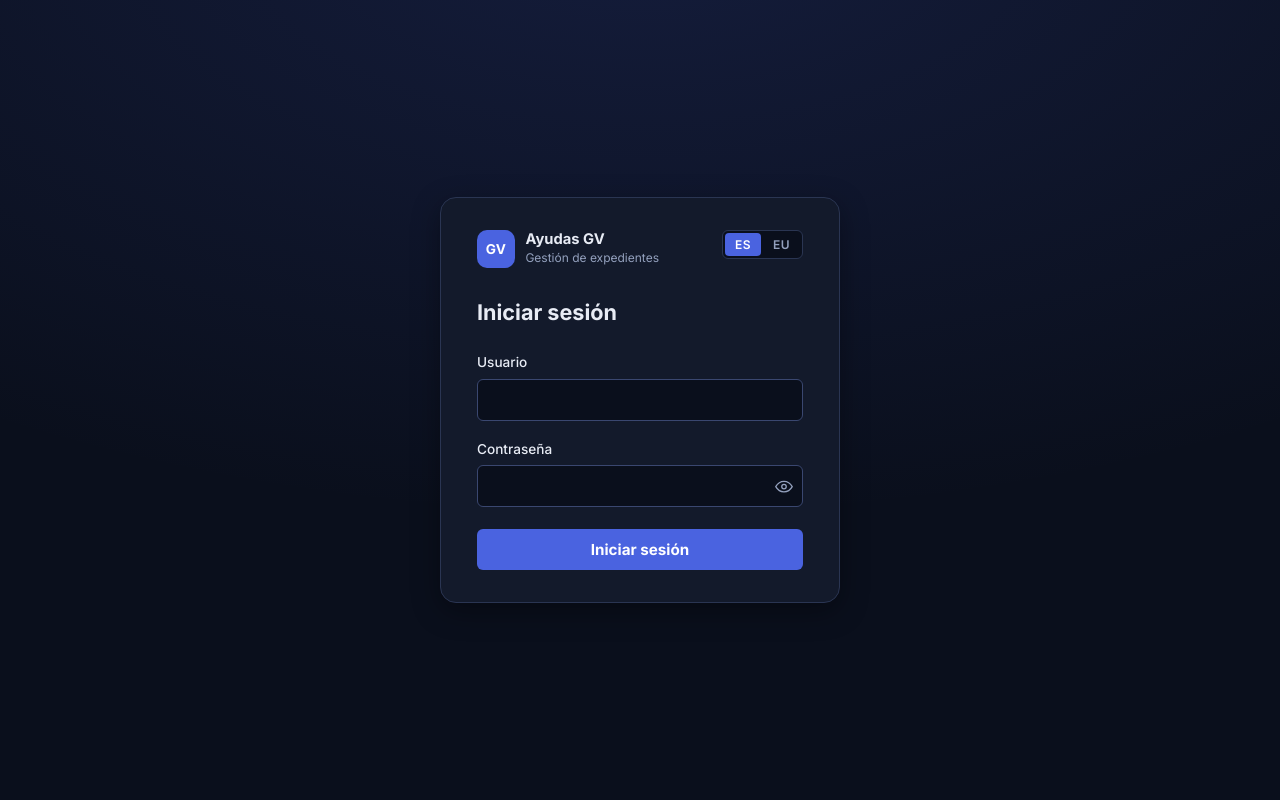
Test case: LoginPage › con credenciales incorrectas muestra el error y no crea sesión
Type "admin" into the field labelled "Usuario" at (640, 400), box [477, 379, 803, 421]
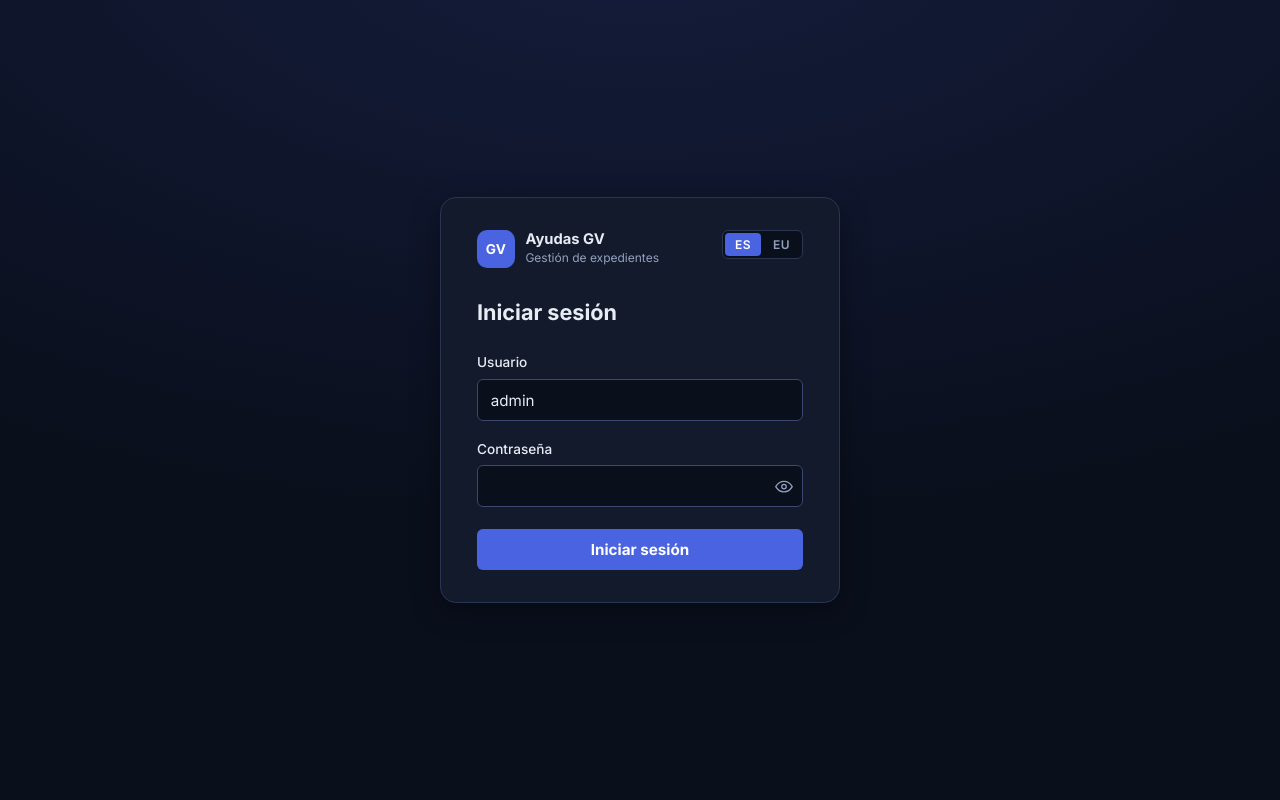
Type "mala-clave" into the password field labelled "Contraseña" at (640, 486), box [477, 465, 803, 507]
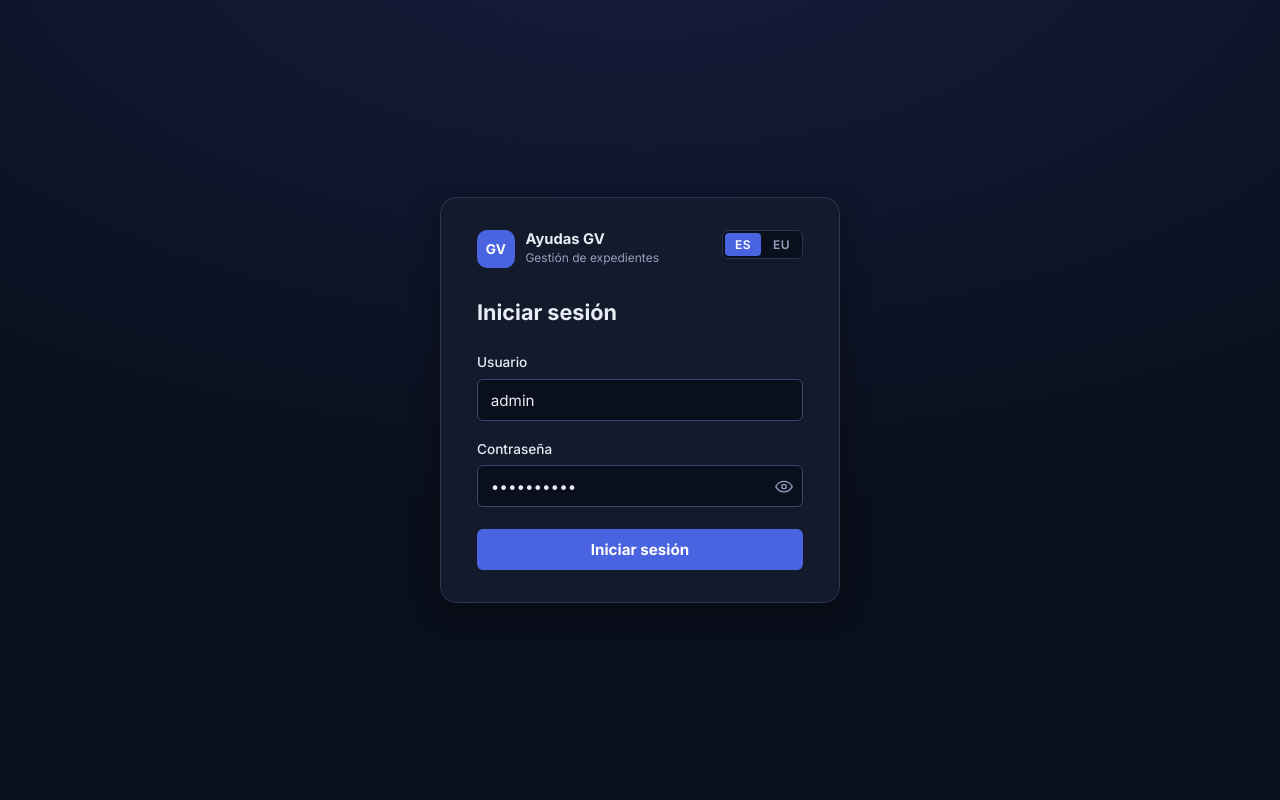
Click the button "Iniciar sesión" at (640, 549), box [477, 529, 803, 570]
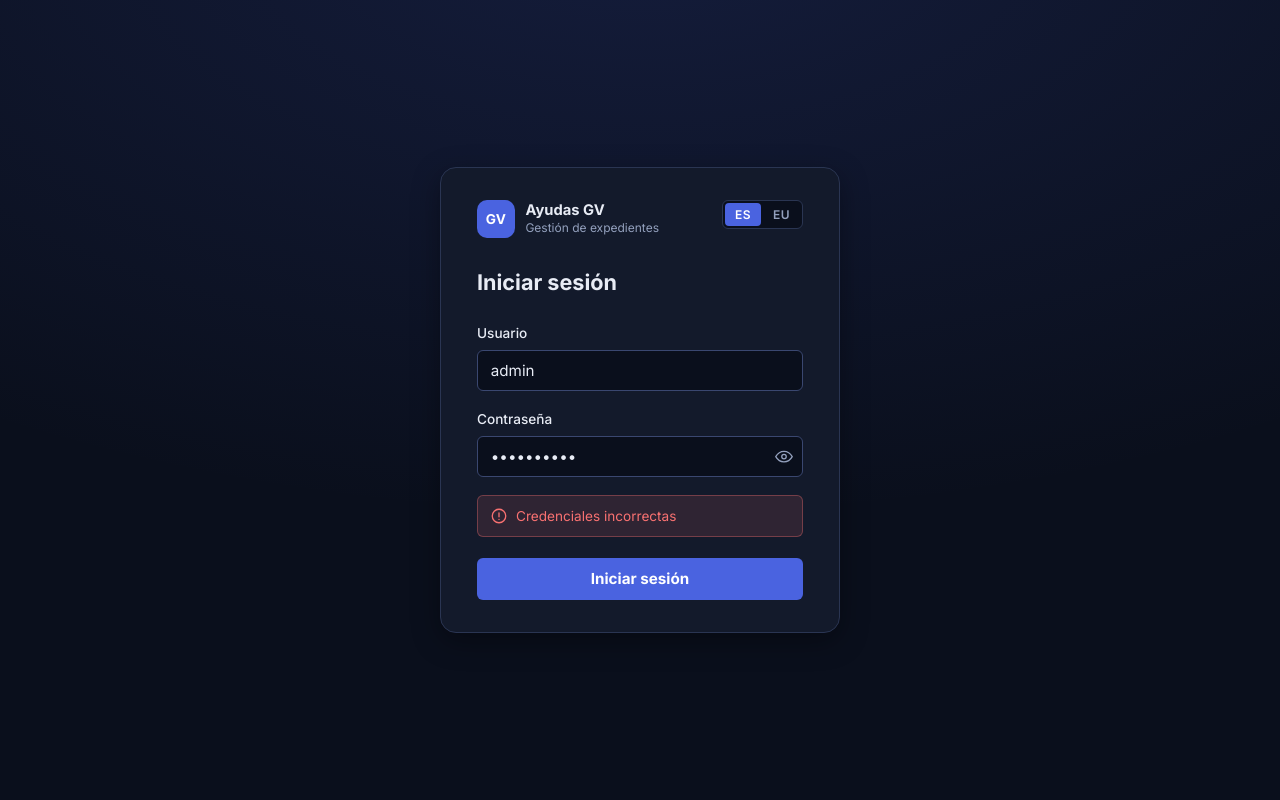
Expected: the message reads "Credenciales incorrectas", [516, 508, 676, 524]
